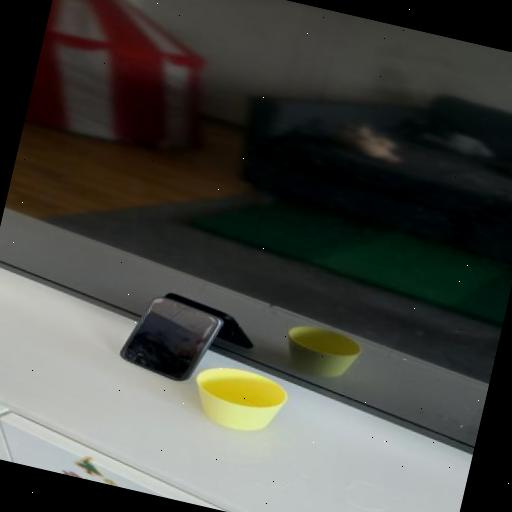phone: (92, 278, 222, 388)
